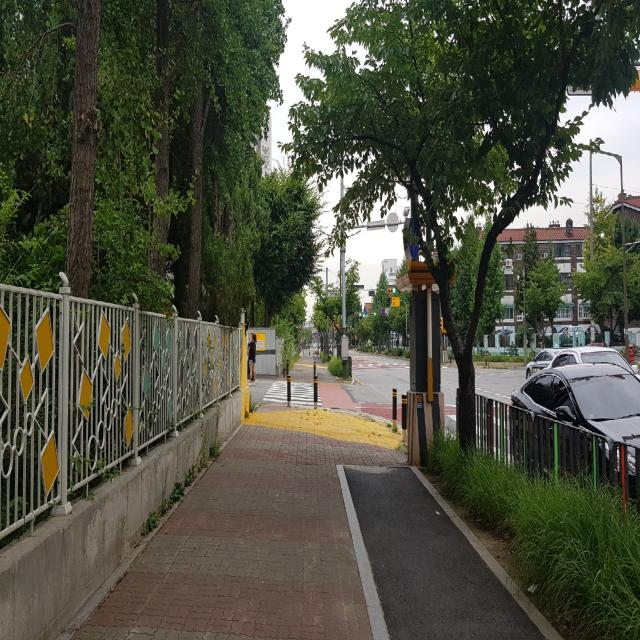횡단보도: (263, 380, 322, 406)
